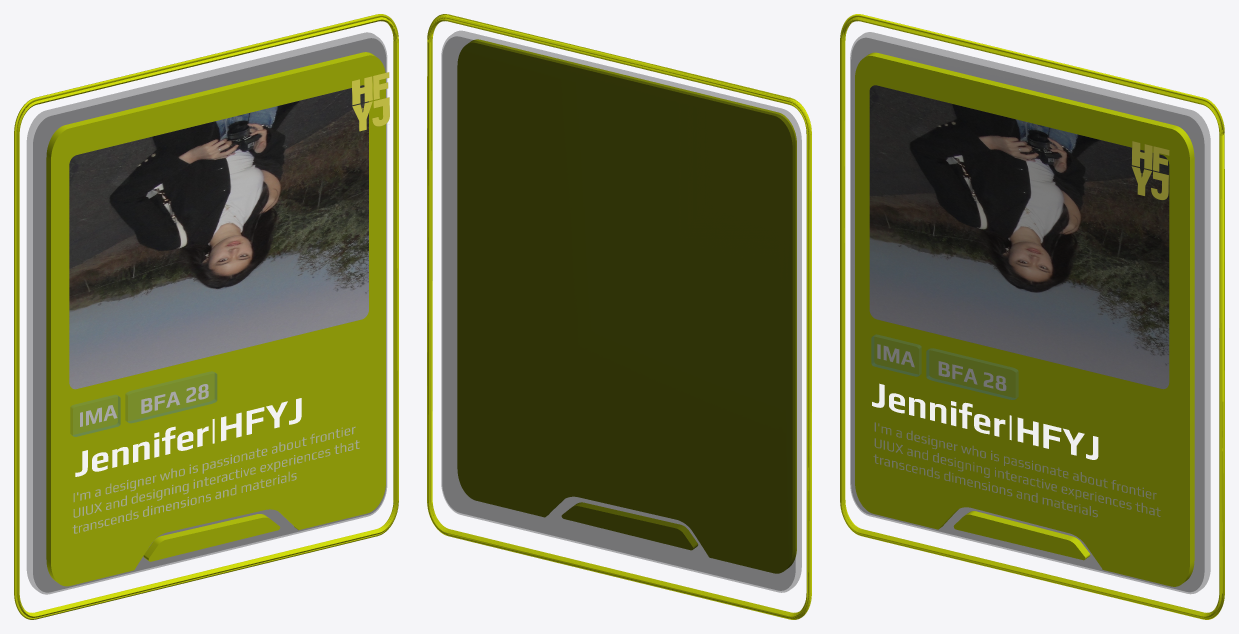
Rendered from About me.glb.
3 views of the same model, side by side, from view 1: azimuth 30°, elevation 25°; view 2: azimuth 150°, elevation 25°; view 3: azimuth 330°, elevation 25° (orthographic).
Visible parts, largest first — view 1: Boolean, ra sm.jpg, Rectangle, Rectangle 6, Text.003, Shape, Text, Plane.001, Logo V1.png, Plane, Text.002; view 2: Rectangle, Boolean, Rectangle 6, Shape; view 3: Boolean, ra sm.jpg, Rectangle, Rectangle 6, Text.003, Shape, Text, Plane.001, Logo V1.png, Plane, Text.002.
Boxes of the visible parts, box(x1,y1,x2,y2) form: Boolean: box(46, 52, 385, 586); ra sm.jpg: box(69, 85, 368, 389); Rectangle: box(27, 32, 386, 594); Rectangle 6: box(14, 14, 398, 619); Text.003: box(72, 426, 359, 533); Shape: box(143, 514, 280, 561); Text: box(75, 398, 301, 476); Plane.001: box(126, 372, 216, 422); Logo V1.png: box(352, 72, 389, 131); Plane: box(71, 395, 120, 436); Text.002: box(141, 384, 208, 413); Rectangle: box(441, 31, 801, 592); Boolean: box(457, 39, 796, 573); Rectangle 6: box(427, 14, 811, 619); Shape: box(561, 502, 697, 550); Boolean: box(855, 52, 1194, 586); ra sm.jpg: box(869, 85, 1169, 389); Rectangle: box(850, 32, 1210, 593); Rectangle 6: box(840, 14, 1224, 619); Text.003: box(873, 422, 1160, 517); Shape: box(953, 511, 1090, 560); Text: box(872, 383, 1098, 459); Plane.001: box(926, 349, 1017, 399); Logo V1.png: box(1131, 141, 1169, 200); Plane: box(871, 335, 920, 376); Text.002: box(938, 361, 1006, 390).
Bounding box in the file's own units: 4.27 × 5.55 × 0.4878.
8 materials, 2 textured.
